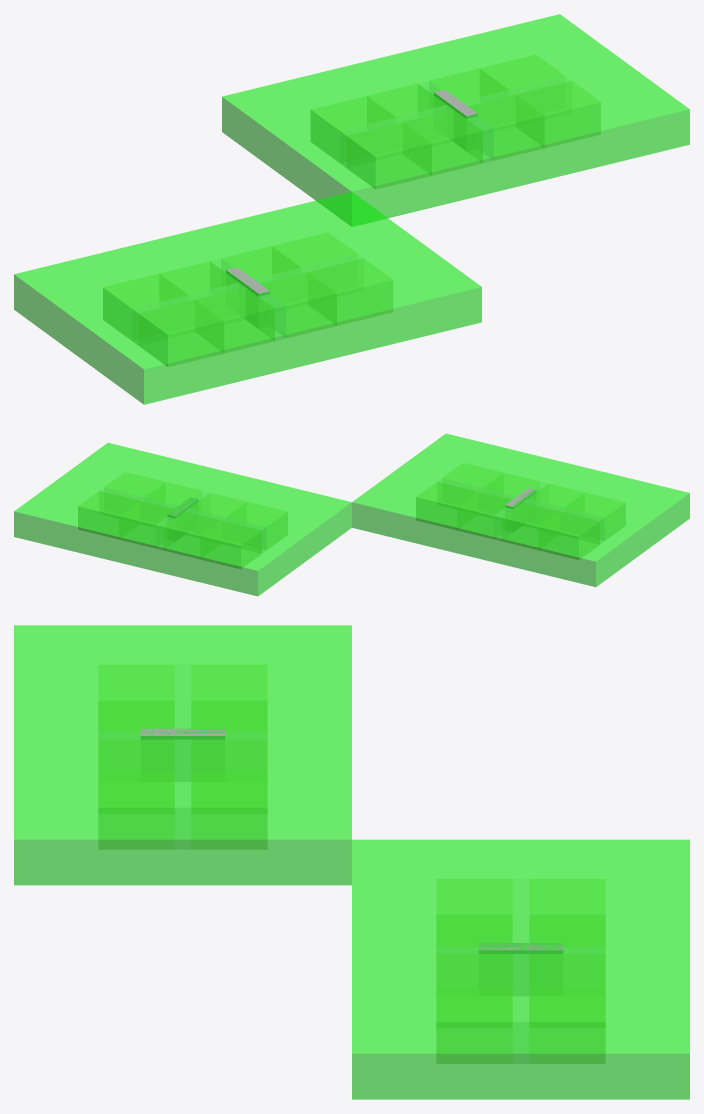
The model's file is StoryRotate.glb.
3 renders of one model, top to bottom at view 1: azimuth 30°, elevation 25°; view 2: azimuth 150°, elevation 25°; view 3: azimuth 270°, elevation 25°, orthographic. The views are drawn at different scales.
Parts seen in each view (by area): view 1: 3795_mesh, 3724_mesh, 3697_mesh, 3789_mesh, 3715_mesh, 3771_mesh, 3703_mesh, 3783_mesh, 3777_mesh, 3709_mesh, 3700_mesh, 3786_mesh (+12 smaller); view 2: 3724_mesh, 3795_mesh, 3700_mesh, 3786_mesh, 3718_mesh, 3768_mesh, 3780_mesh, 3706_mesh, 3774_mesh, 3712_mesh, 3697_mesh, 3789_mesh (+14 smaller); view 3: 3724_mesh, 3795_mesh, 3715_mesh, 3718_mesh, 3768_mesh, 3771_mesh, 3792_mesh, 3721_mesh, 3697_mesh, 3700_mesh, 3786_mesh, 3789_mesh (+12 smaller).
Part boxes in pixels (<box>): 3795_mesh: <box>14,192,481,404</box>; 3724_mesh: <box>222,14,689,226</box>; 3697_mesh: <box>347,122,431,188</box>; 3789_mesh: <box>139,300,223,366</box>; 3715_mesh: <box>516,81,600,147</box>; 3771_mesh: <box>308,259,392,325</box>; 3703_mesh: <box>403,110,482,175</box>; 3783_mesh: <box>196,287,274,352</box>; 3777_mesh: <box>261,272,336,337</box>; 3709_mesh: <box>468,95,544,160</box>; 3700_mesh: <box>311,96,395,162</box>; 3786_mesh: <box>103,274,187,340</box>; 3724_mesh: <box>14,443,351,596</box>; 3795_mesh: <box>352,433,689,586</box>; 3700_mesh: <box>200,521,261,568</box>; 3786_mesh: <box>538,512,599,559</box>; 3718_mesh: <box>78,491,138,538</box>; 3768_mesh: <box>416,482,476,529</box>; 3780_mesh: <box>502,503,558,549</box>; 3706_mesh: <box>164,512,220,558</box>; 3774_mesh: <box>457,492,511,538</box>; 3712_mesh: <box>119,501,173,547</box>; 3697_mesh: <box>227,502,287,549</box>; 3789_mesh: <box>565,493,625,540</box>; 3724_mesh: <box>352,839,689,1099</box>; 3795_mesh: <box>14,625,351,885</box>; 3715_mesh: <box>436,986,512,1063</box>; 3718_mesh: <box>529,986,605,1063</box>; 3768_mesh: <box>191,772,267,849</box>; 3771_mesh: <box>98,772,174,849</box>; 3792_mesh: <box>140,728,225,781</box>; 3721_mesh: <box>479,943,563,995</box>; 3697_mesh: <box>436,879,512,914</box>; 3700_mesh: <box>529,879,605,914</box>; 3786_mesh: <box>191,665,267,700</box>; 3789_mesh: <box>98,665,174,700</box>.
Bounding box in the file's own units: 120 × 6 × 80.
